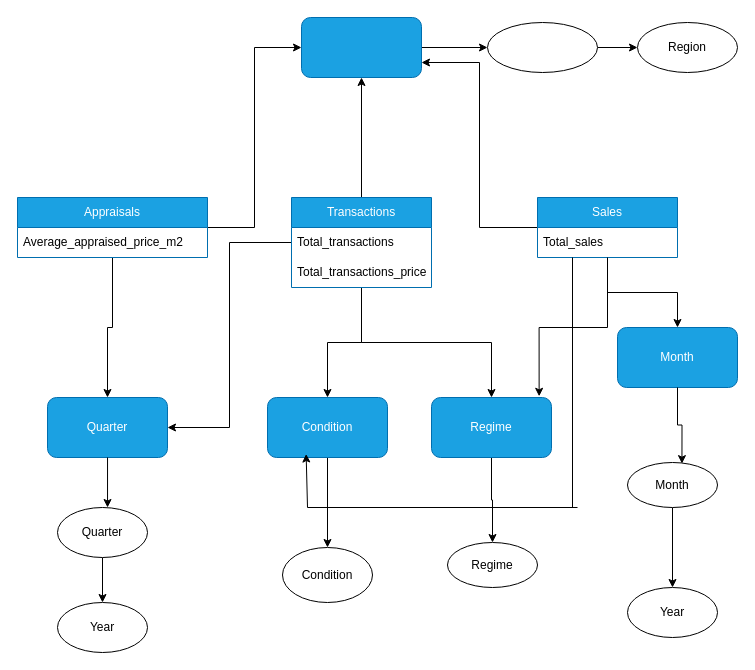
The diagram is 755 pixels wide and 670 high, and some of its shapes have lost their labels. The shapes that lost their labels are listed below. From the top down, each one's centre as x and y in pixels, then its label:
At pixel 361 47: "Location".
At pixel 542 47: "City".
